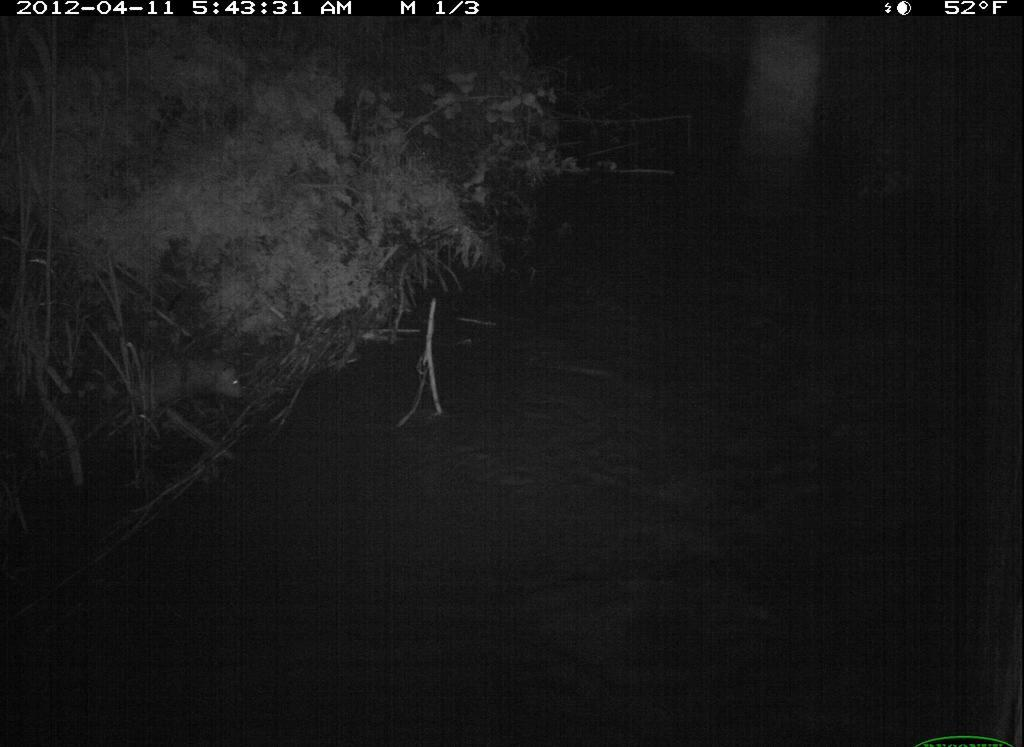opossum: (73, 329, 268, 457)
